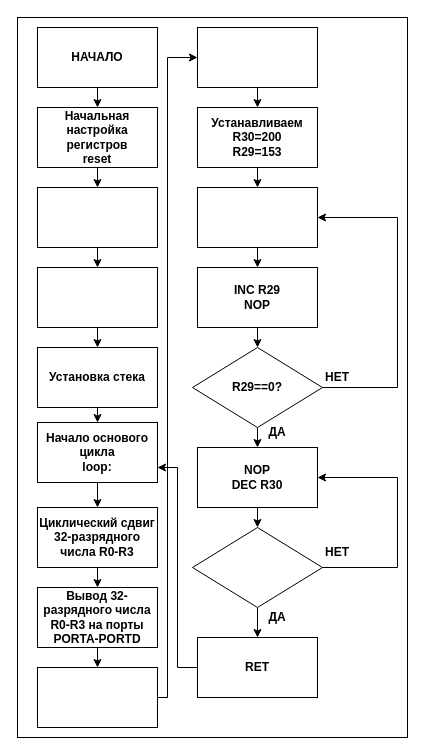
The diagram is 425 pixels wide and 755 high, and some of its shapes have lost their labels. Each missing label, with the centre of its shape:
delay:: point 257,57
delay_sub:: point 257,217
R30==0?: point 257,567
Вызов подпрограммы delay: point 97,697
Настройка PORTA-PORTD на вывод: point 97,297
Установка R0=1 R1-R3=0: point 97,217
